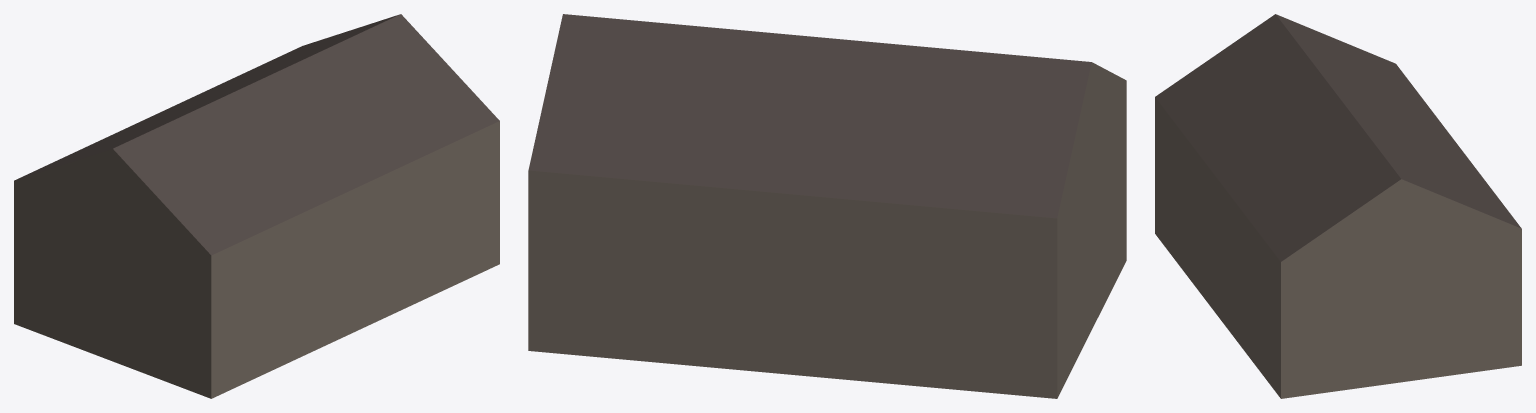
3 views of the same model, side by side, from view 1: azimuth 30°, elevation 25°; view 2: azimuth 150°, elevation 25°; view 3: azimuth 270°, elevation 25° (orthographic). The views are drawn at different scales.
Visible parts, largest first — view 1: HP-w859447877; view 2: HP-w859447877; view 3: HP-w859447877.
Boxes of the visible parts, box(x1,y1,x2,y2) form: HP-w859447877: box(14, 14, 499, 398); HP-w859447877: box(528, 14, 1126, 398); HP-w859447877: box(1155, 14, 1521, 398).
Size of the model in its own units: 18.64 by 8.91 by 14.57.
